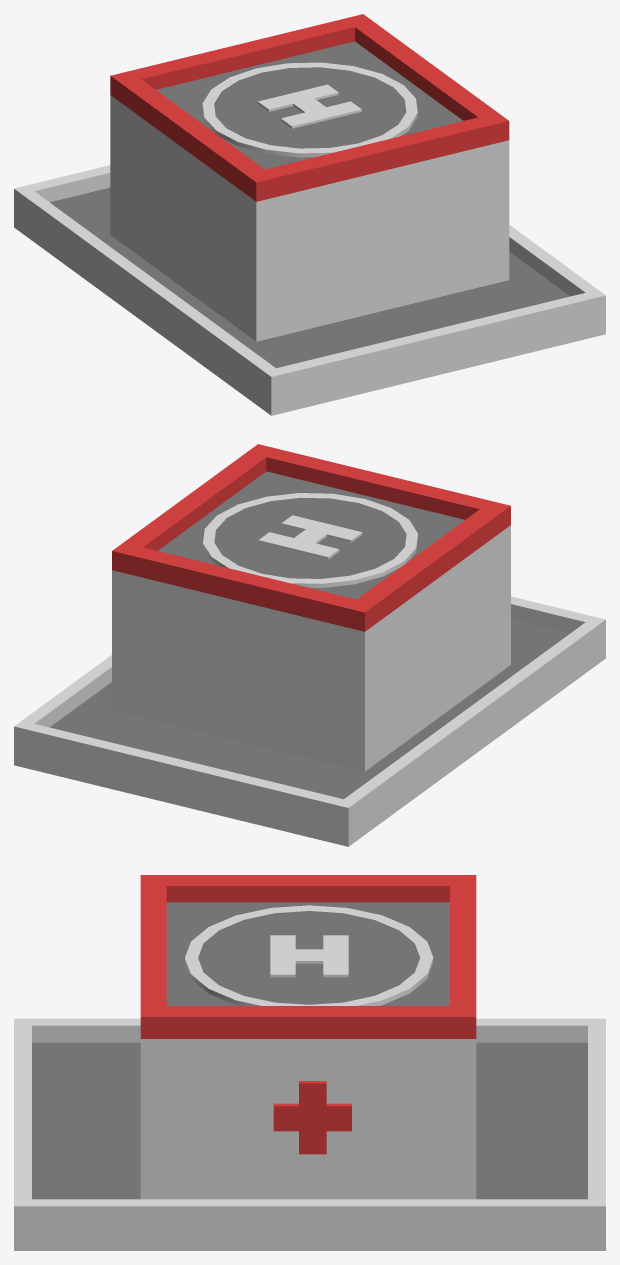
The model's file is Hospital_Top.fbx.
3 views of the same model, one above another, from view 1: azimuth 30°, elevation 25°; view 2: azimuth 150°, elevation 25°; view 3: azimuth 270°, elevation 25° (orthographic). The views are drawn at different scales.
Parts seen in each view (by area): view 1: Hospital_Top; view 2: Hospital_Top; view 3: Hospital_Top.
Part boxes in pixels (x1,y1,x2,y2): Hospital_Top: (14, 14, 605, 415); Hospital_Top: (14, 444, 605, 846); Hospital_Top: (14, 875, 605, 1250).
Bounding box in the file's own units: 288 × 151 × 384.
